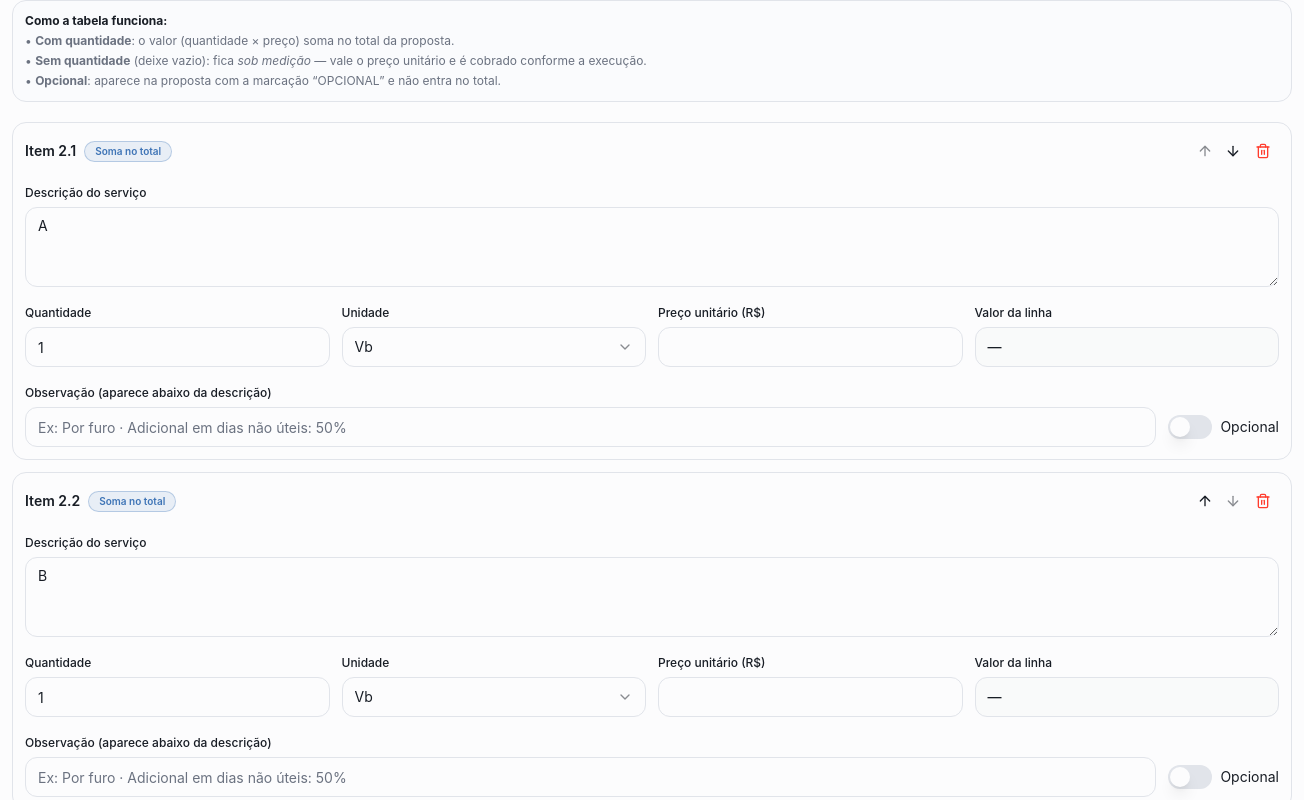
Test: etapa de preços › remover item
The width and height of the screenshot is (1304, 800).
Expected: the text "Item 2.1" is shown 2 times, [25,141,76,161]; [25,491,80,511]
Click the button named "Remover item" in the row of "2.1". click: click(1263, 151)
box: [1247,135,1279,167]
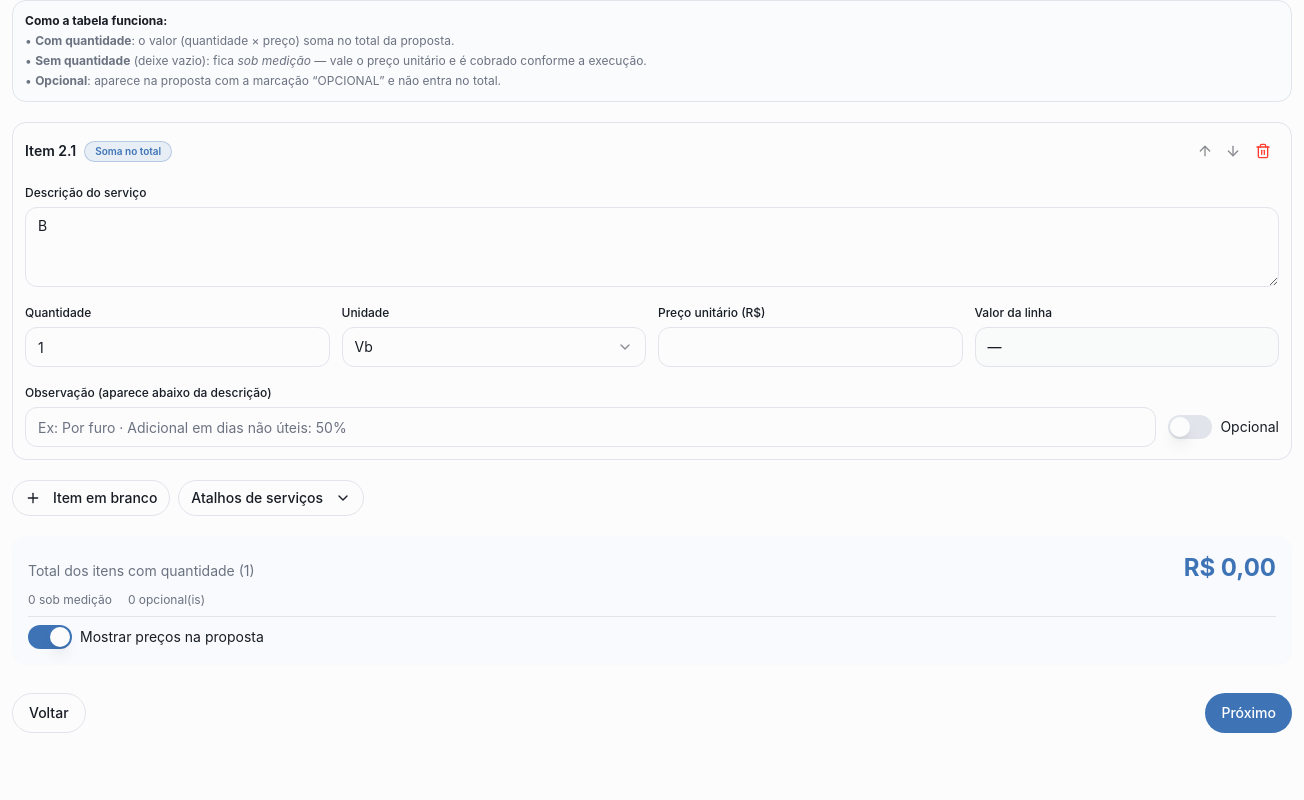
Expected: the text "Item 2.1" is shown once, [25,141,76,161]
